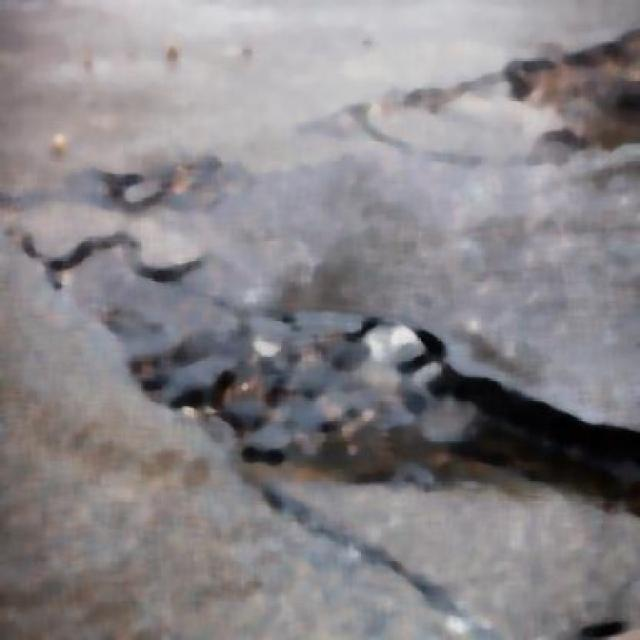Pothole: (30, 217, 640, 639)
